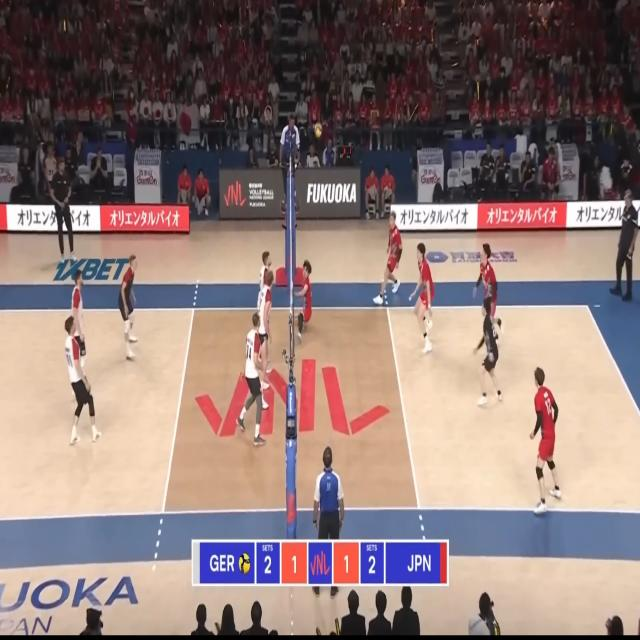ball: (314, 122, 322, 136)
